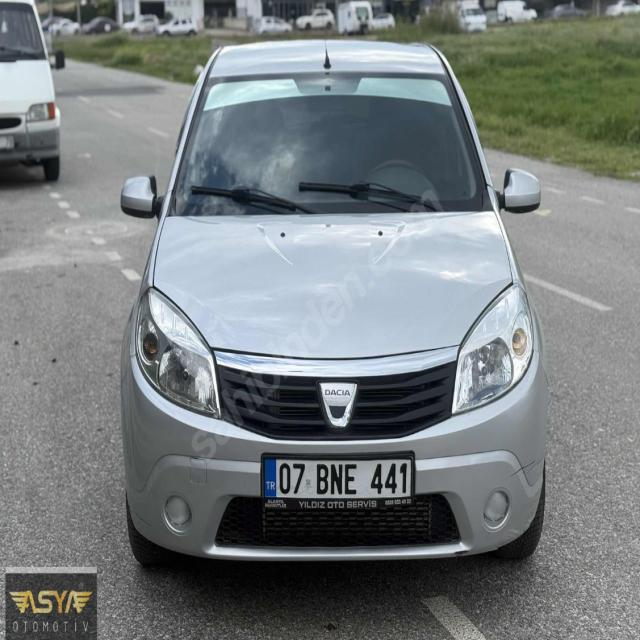dacia: (316, 375, 359, 432)
